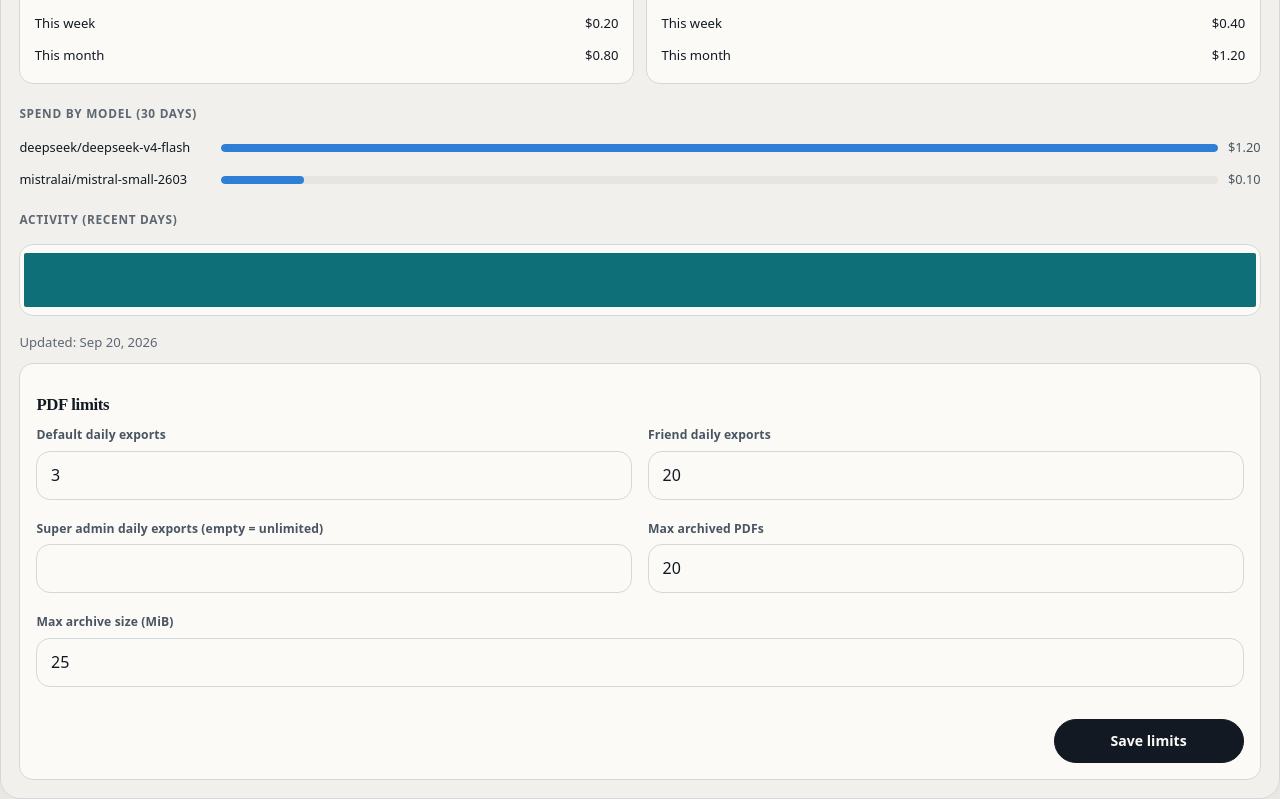
Test: AdminPanel › shows metrics and saves limits with MiB converted to bytes
(page scrolled)
Expected: the text "deepseek/deepseek-v4-flash" is shown, top-left (19, 138), bottom-right (211, 158)
Replace the text in the number field labelled "Max archive size (MiB)" with "50" at (640, 662), box top-left (36, 638), bottom-right (1244, 687)
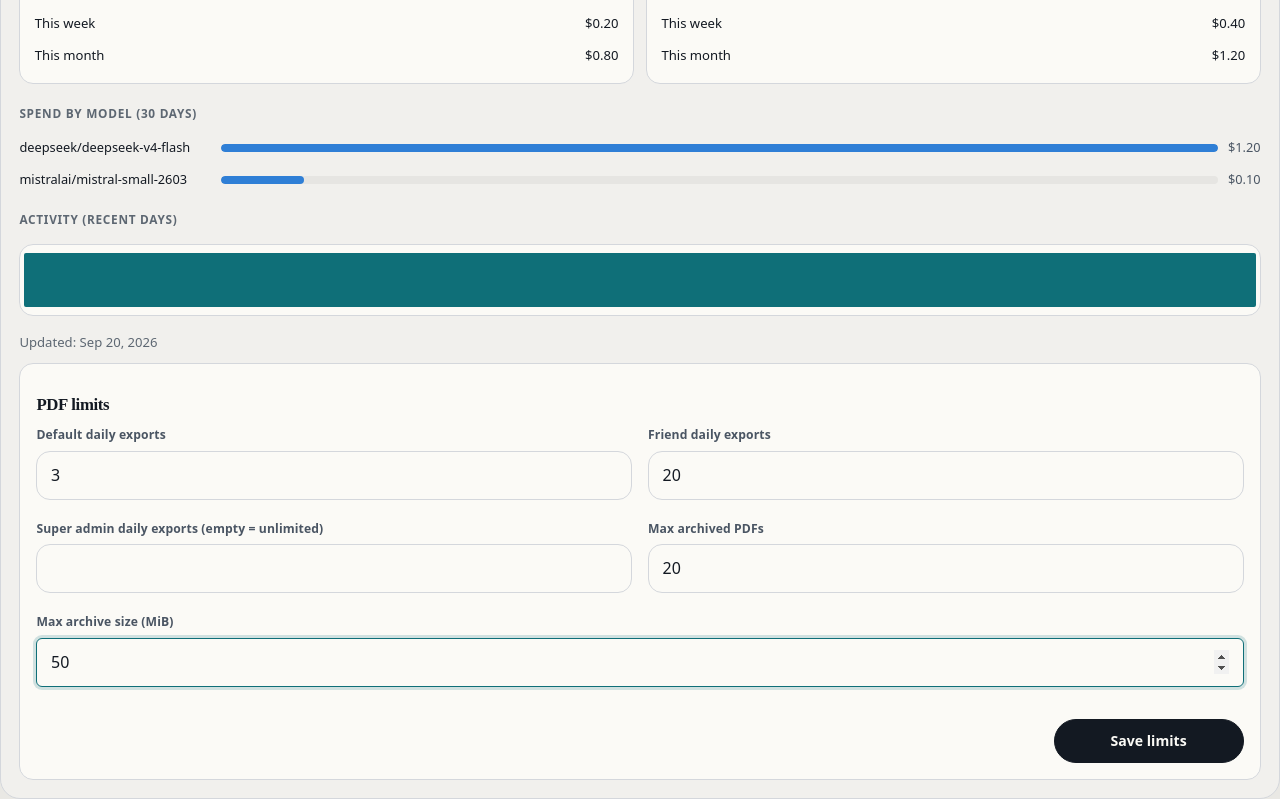
Click the button "Save limits" at (1149, 741), box top-left (1054, 719), bottom-right (1244, 763)
(page scrolled)
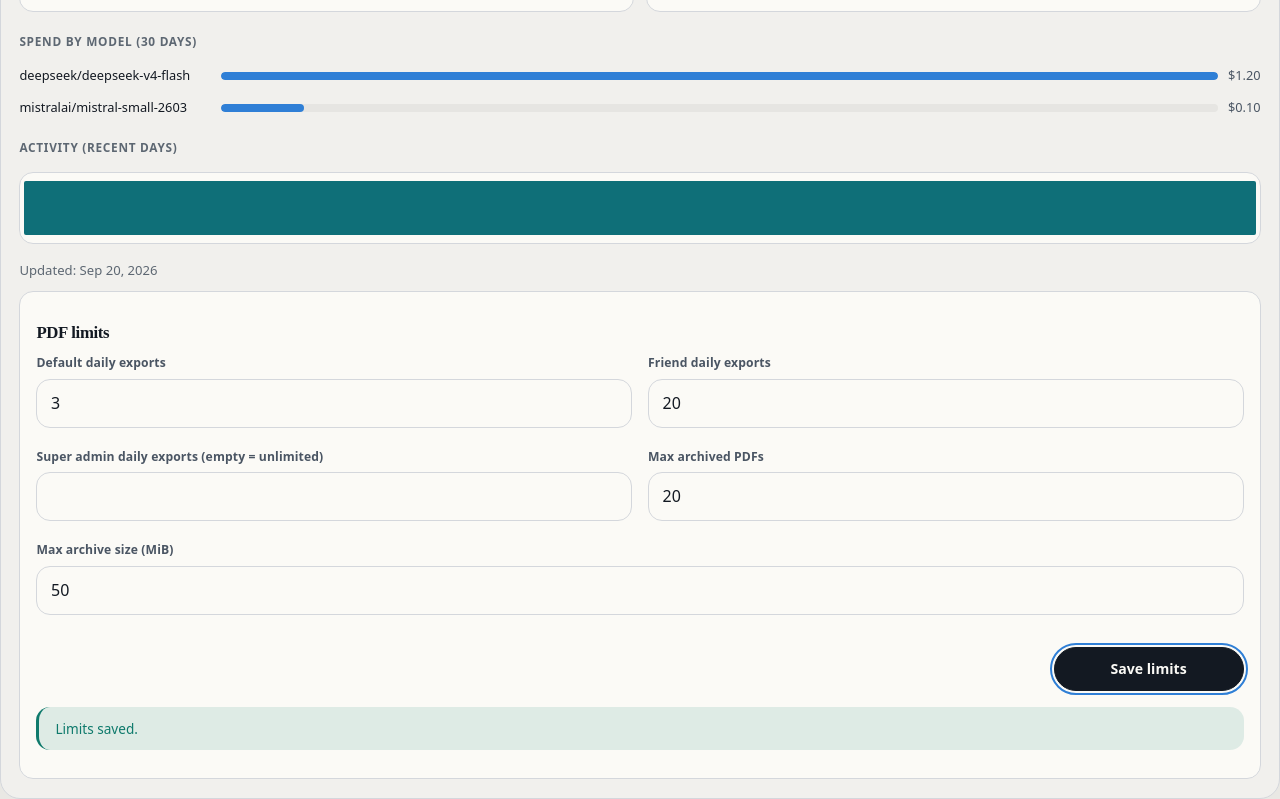
Expected: the message shows "Limits saved", top-left (55, 719), bottom-right (138, 738)
